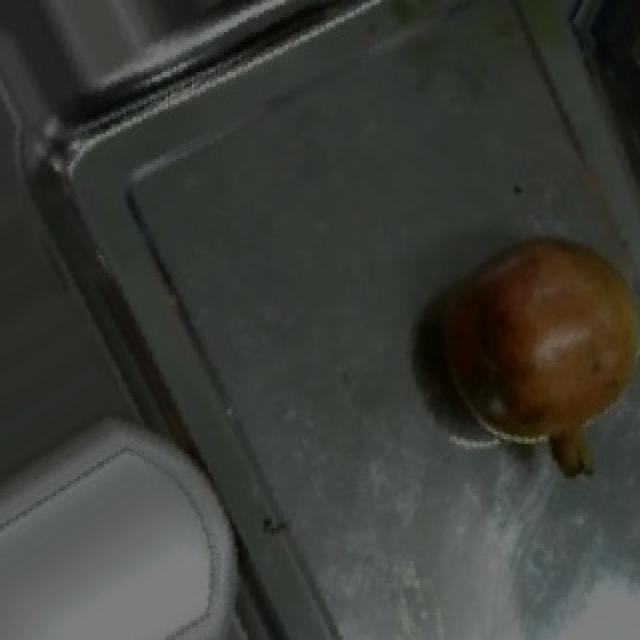fruit: (410, 213, 640, 479)
